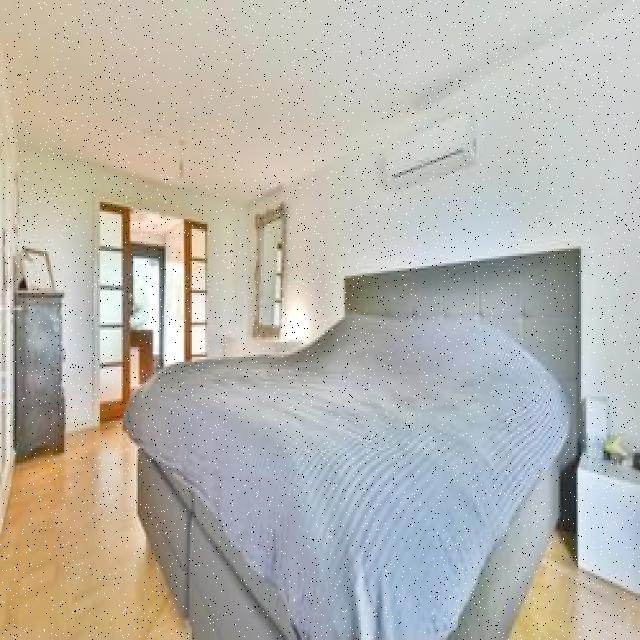bed: (132, 251, 580, 640)
